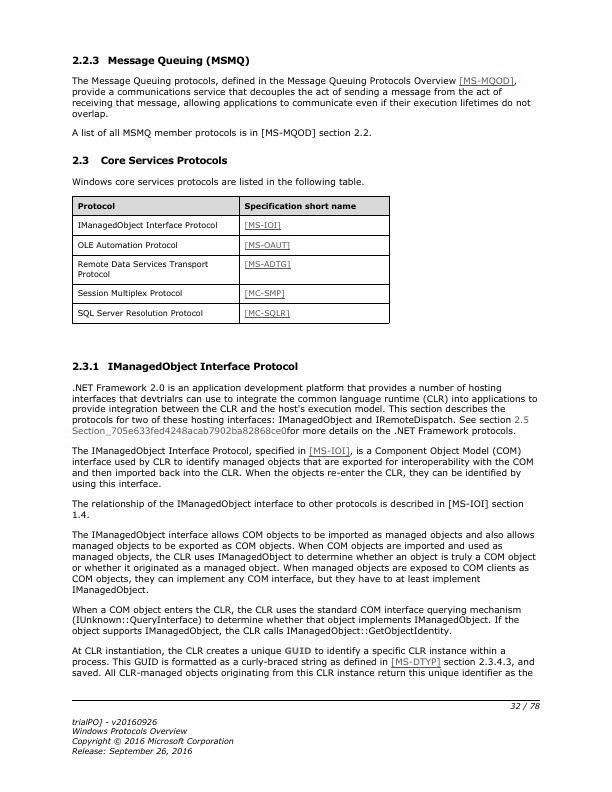table: (70, 195, 392, 327)
text: (70, 526, 538, 597), (70, 381, 538, 438), (70, 73, 533, 121), (70, 444, 535, 489), (68, 643, 537, 681), (68, 604, 527, 638), (70, 496, 527, 521), (68, 716, 236, 758), (71, 175, 366, 189), (68, 126, 374, 139), (70, 358, 302, 373), (68, 52, 251, 68), (70, 152, 230, 169)
